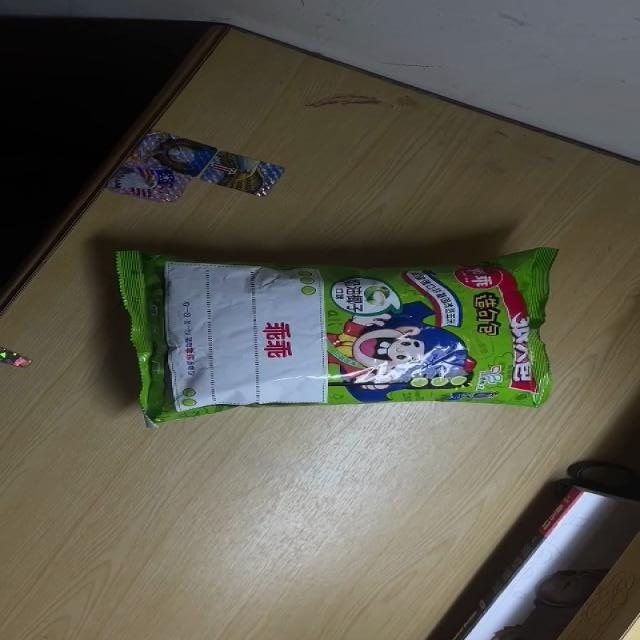Good-Luck: (120, 245, 557, 430)
